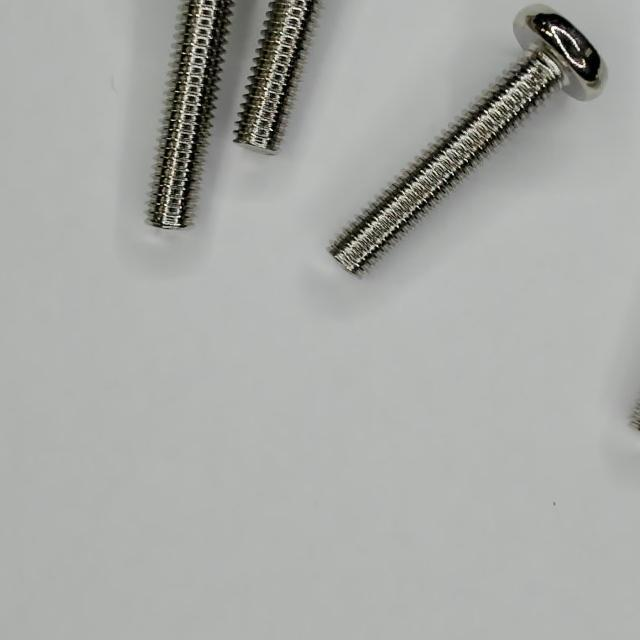Screw: (330, 4, 609, 272), (148, 0, 233, 228), (148, 0, 232, 228), (235, 0, 317, 152)
